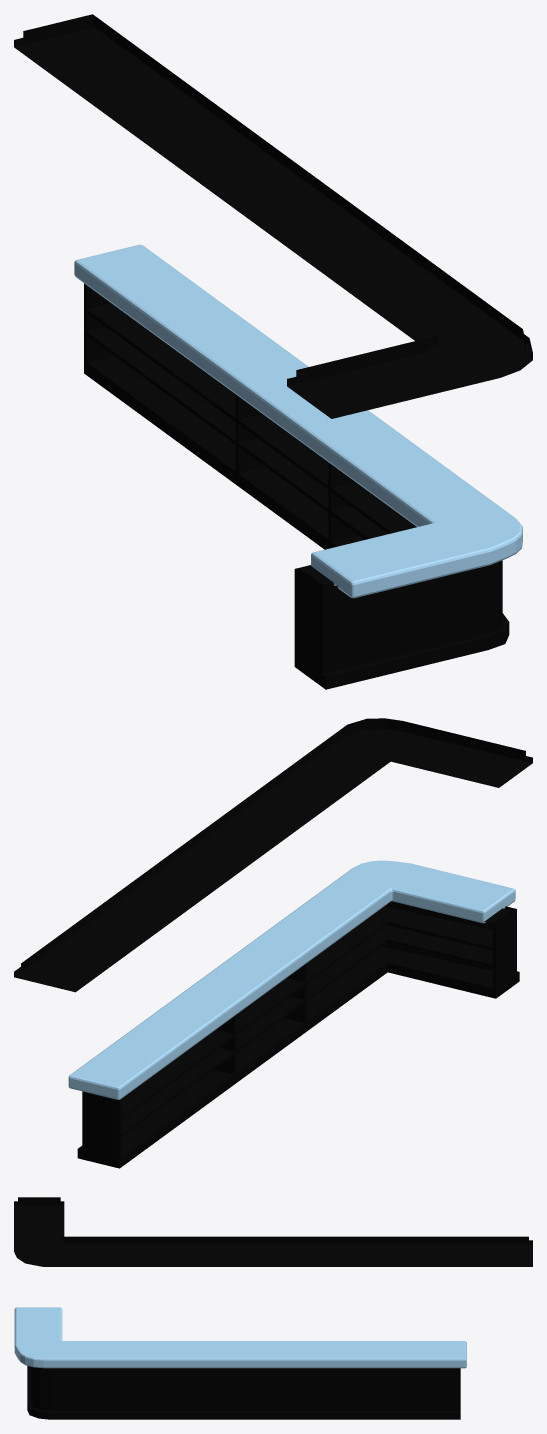
Rendered from Bar.obj.
3 renders of one model, top to bottom at view 1: azimuth 30°, elevation 25°; view 2: azimuth 150°, elevation 25°; view 3: azimuth 270°, elevation 25°, orthographic. The views are drawn at different scales.
Parts seen in each view (by area): view 1: Bar_Plane.002; view 2: Bar_Plane.002; view 3: Bar_Plane.002.
Boxes of the visible parts, bbox=[...] form: Bar_Plane.002: bbox=[14, 14, 532, 689]; Bar_Plane.002: bbox=[14, 718, 532, 1168]; Bar_Plane.002: bbox=[14, 1197, 532, 1419].
Bounding box in the file's own units: 2.51 × 3.19 × 8.94.
